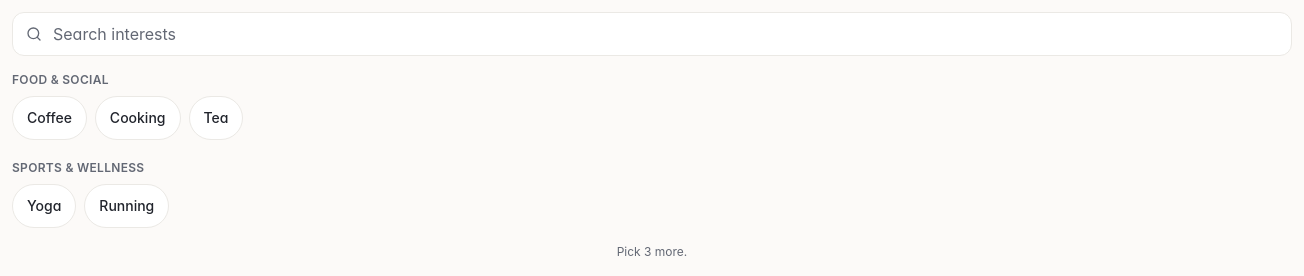
Test case: InterestPicker › announces remaining selections and the max-reached state politely
Check: the text "Pick 3 more." is shown, box [617,244,687,259]
Click the button "Coffee" at (49, 118), box [12,96,87,140]
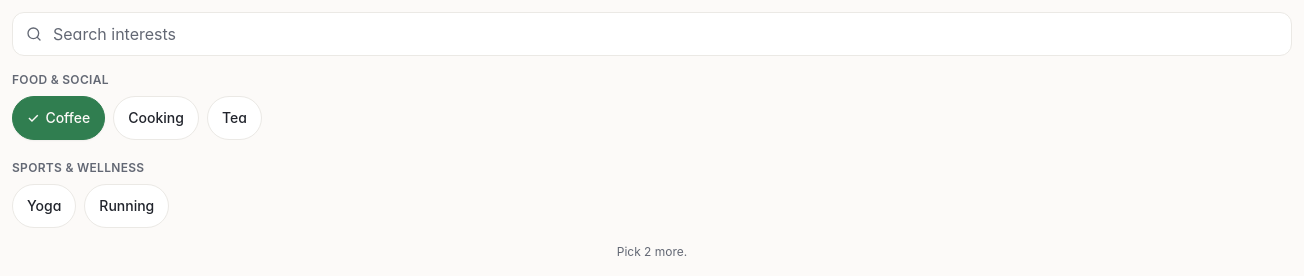
Click the button "Tea" at (234, 118), box [207,96,262,140]
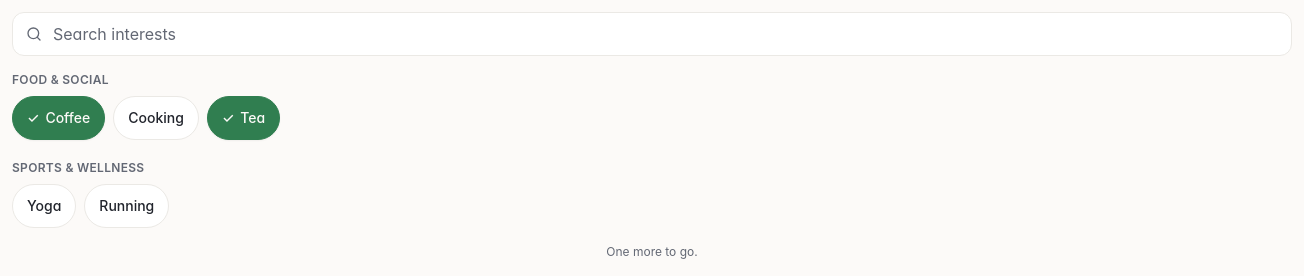
Check: the text "One more to go." is shown, box [606,244,698,259]
